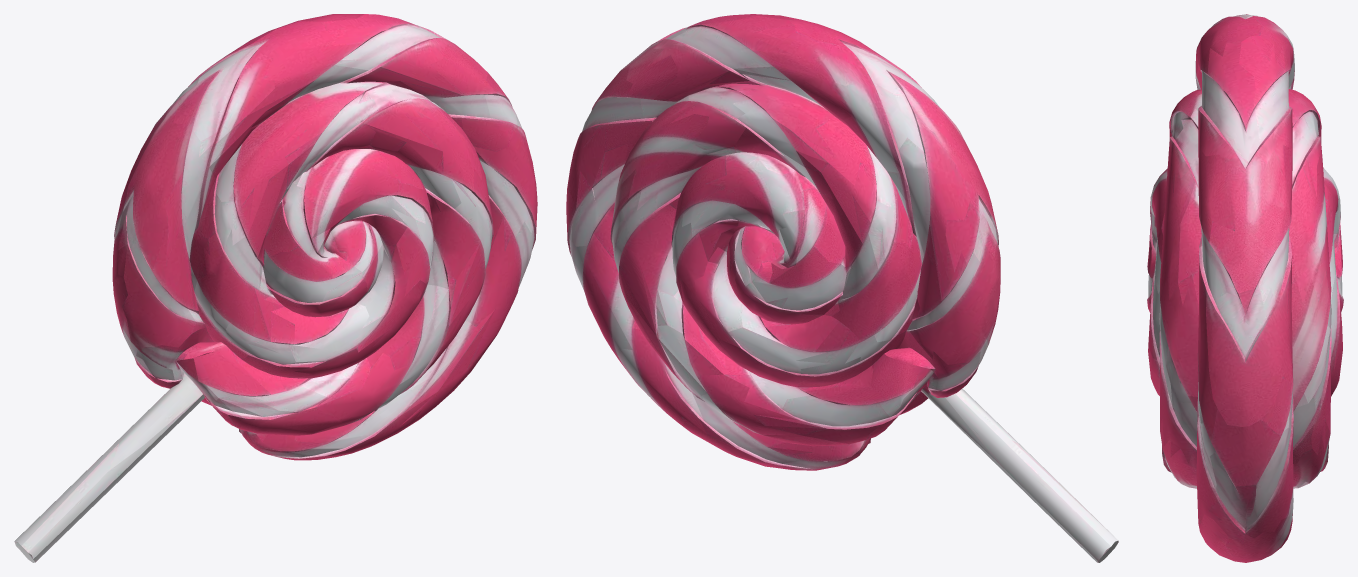
The model's file is lollipop.glb.
The picture shows the model from 3 angles, left to right: view 1: azimuth 30°, elevation 25°; view 2: azimuth 150°, elevation 25°; view 3: azimuth 270°, elevation 25°; orthographic projection. The views are drawn at different scales.
Size of the model in its own units: 1.9 by 1.61 by 0.5491.
Materials: 1 (1 with a texture image).
